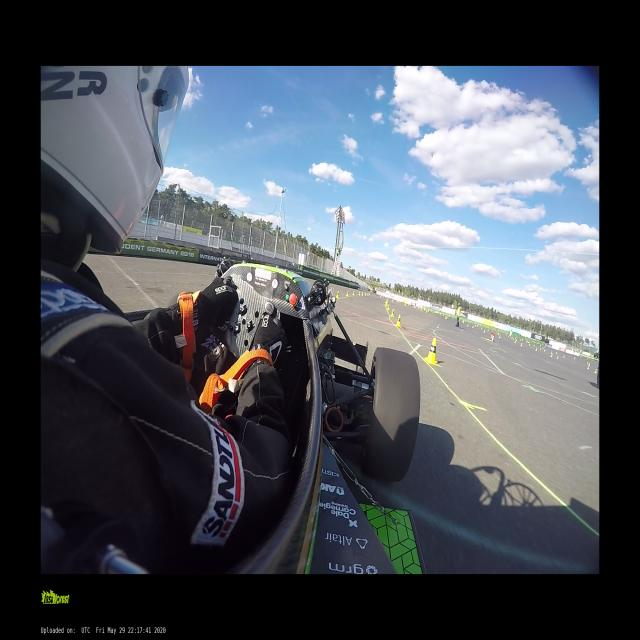yellow_cone: (424, 338, 439, 366), (396, 314, 401, 327), (335, 290, 339, 299), (391, 309, 394, 317), (346, 290, 349, 298), (352, 290, 355, 296), (594, 368, 597, 374), (550, 352, 553, 358), (386, 301, 388, 308), (556, 355, 559, 359), (362, 292, 364, 296), (358, 292, 360, 296)
